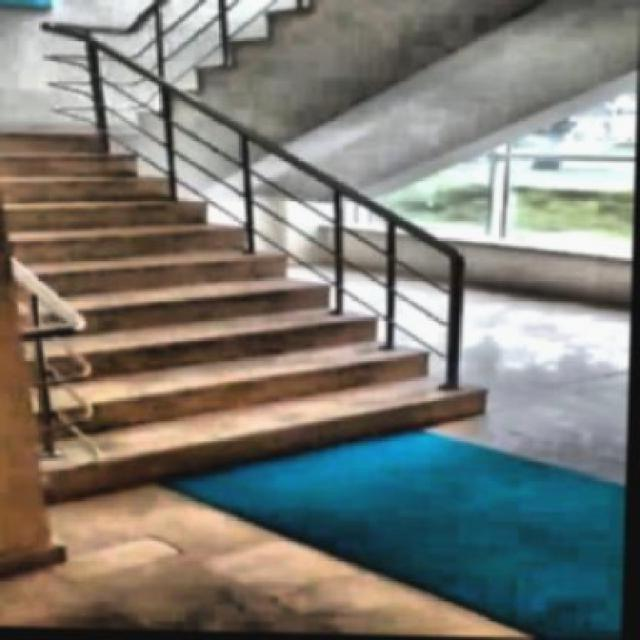stair: (1, 124, 537, 522)
